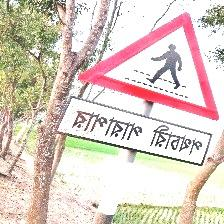Pedestrian-crossing: (60, 8, 222, 168)
